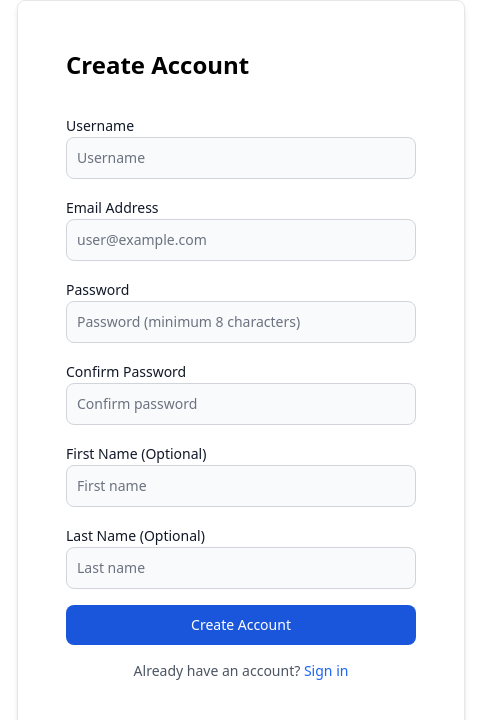
Test: Register › shows error message when passwords do not match
This screenshot has width=483, height=720.
In the field labelled "Username": point(241, 158) x1=66 y1=137 x2=416 y2=179, type "testuser"
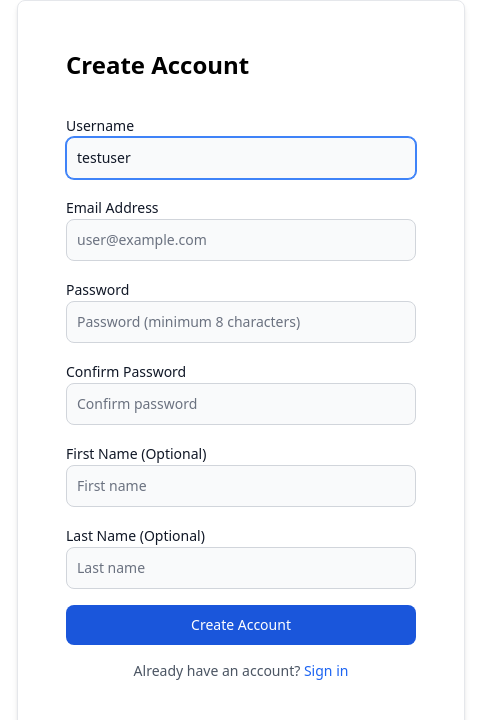
In the field labelled "Email Address": point(241, 240) x1=66 y1=219 x2=416 y2=261, type "test@user.com"
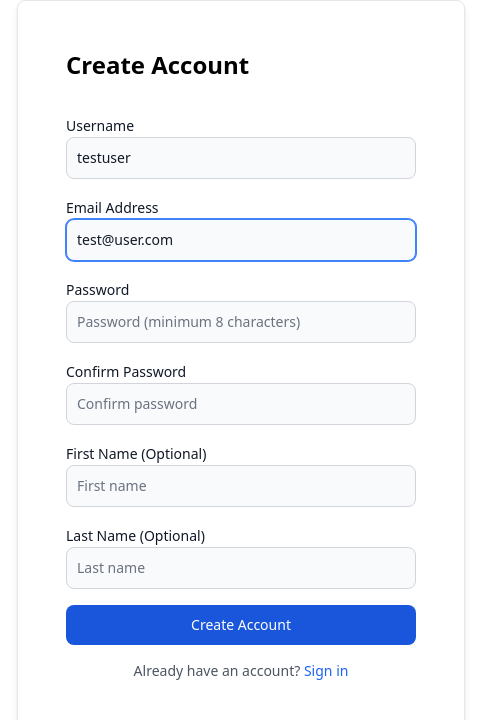
In the password field labelled "Password": point(241, 322) x1=66 y1=301 x2=416 y2=343, type "testpass123"
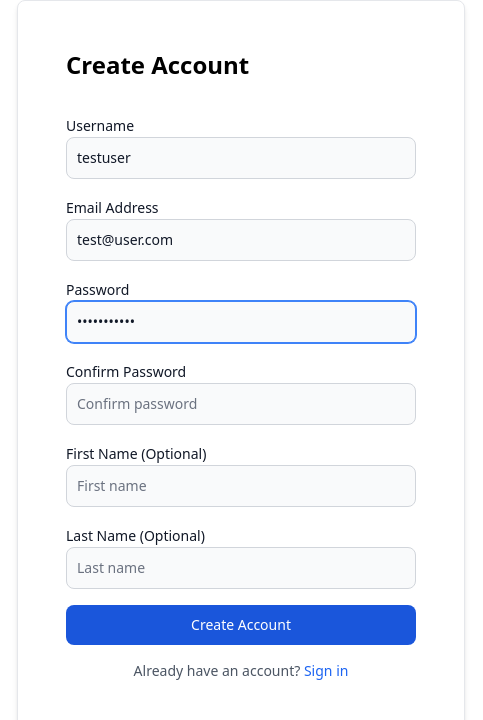
In the password field labelled "Confirm Password": point(241, 404) x1=66 y1=383 x2=416 y2=425, type "differentpass"
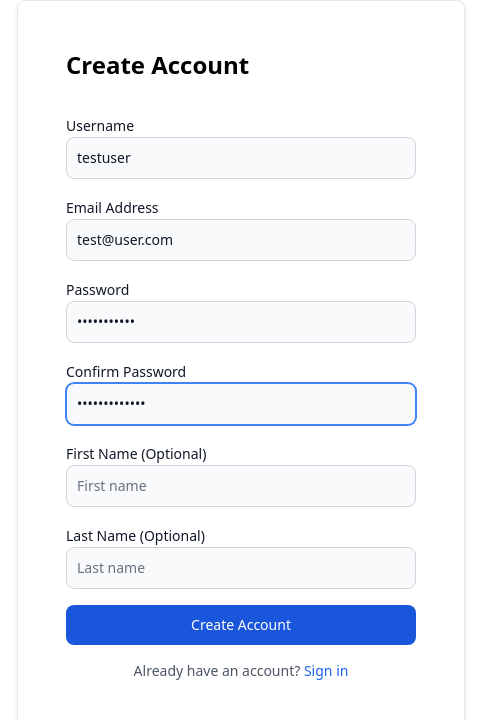
Click the button "Create Account": point(241, 625) x1=66 y1=605 x2=416 y2=645
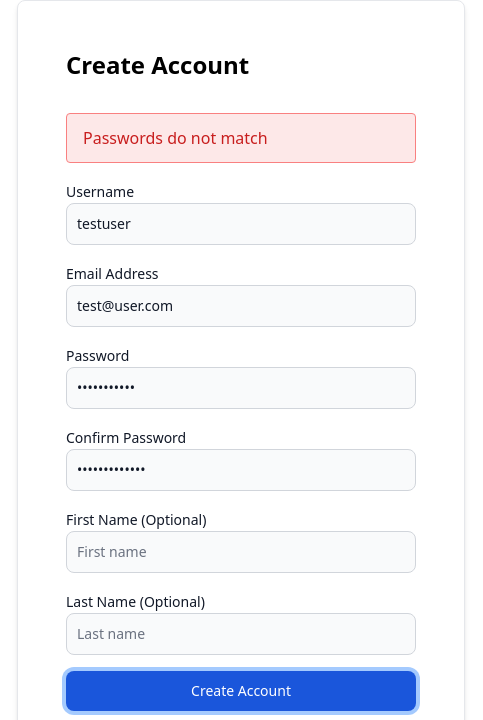
Result: the text "Passwords do not match" is shown at x1=66 y1=113 x2=416 y2=163
